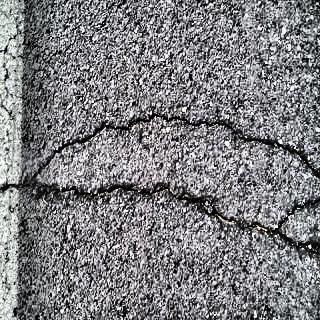crack: (0, 107, 320, 270), (1, 8, 18, 104)
